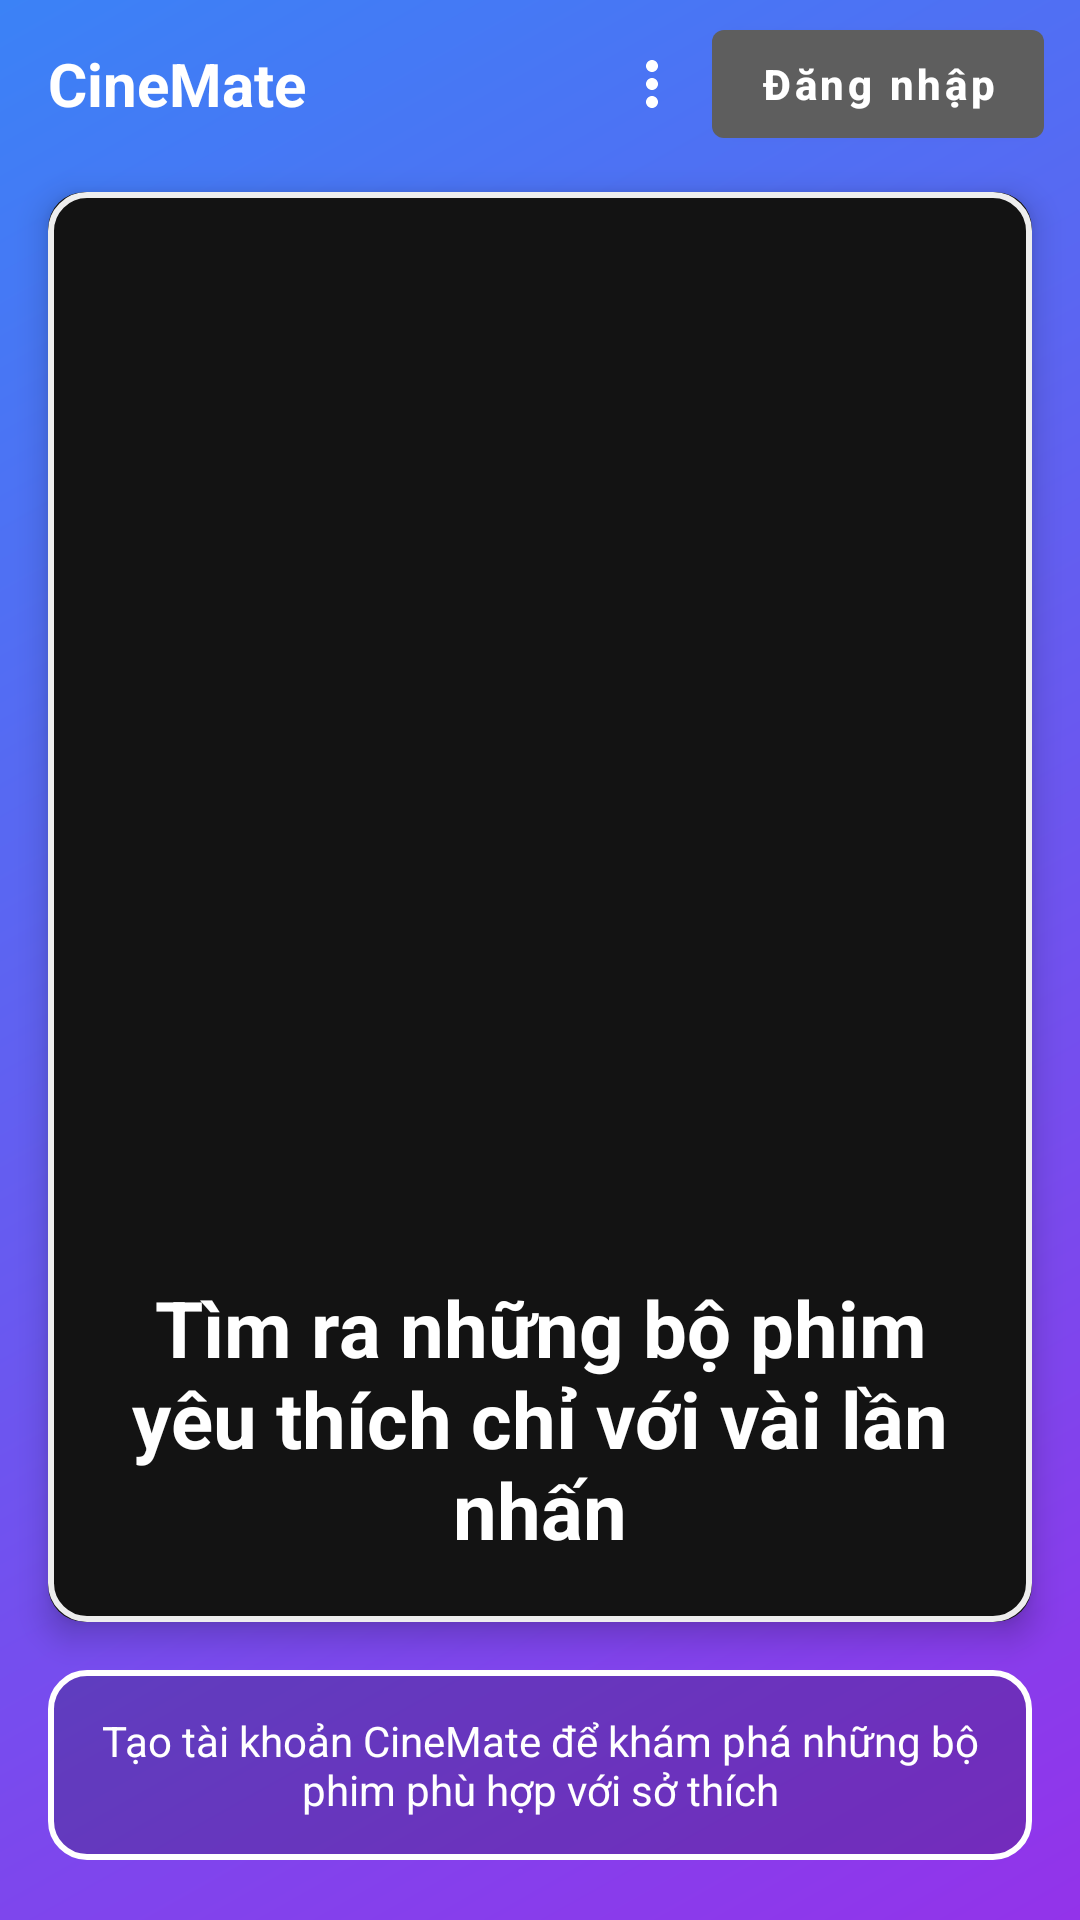

Screen size 1080 × 1920. Icon name, then its center in pixels as (x=x, y=y):
Xem thêm: (x=652, y=84)
